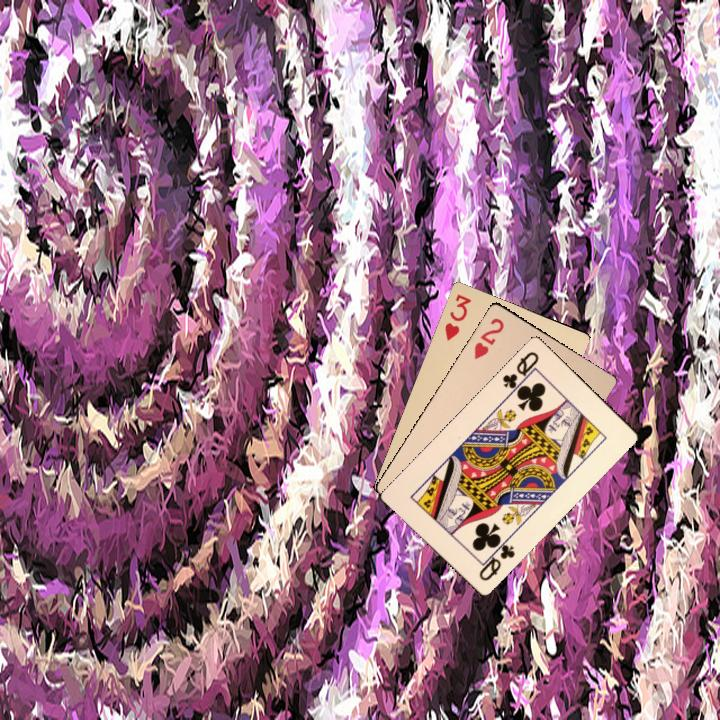2h: (470, 314, 507, 362)
3h: (441, 290, 474, 343)
Qc: (498, 348, 541, 396), (475, 534, 517, 583)
